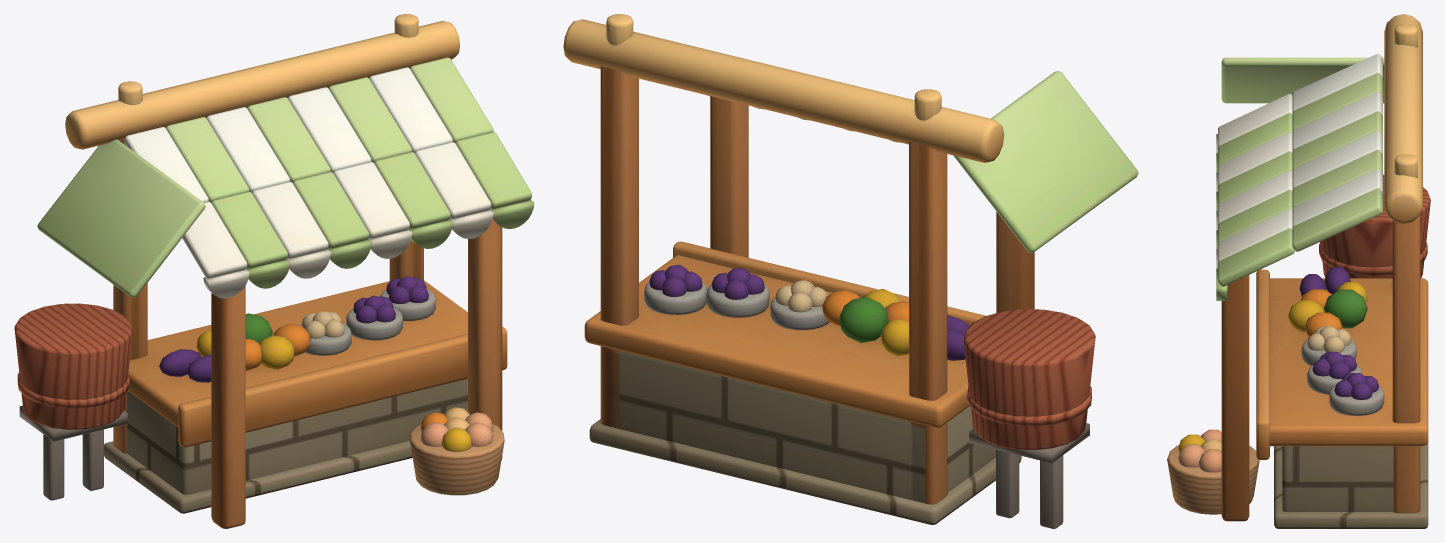
File: awning_stall_1_high.glb
3 views of the same model, side by side, from view 1: azimuth 30°, elevation 25°; view 2: azimuth 150°, elevation 25°; view 3: azimuth 270°, elevation 25° (orthographic). The views are drawn at different scales.
Parts seen in each view (by area): view 1: awning_stall_1; view 2: awning_stall_1; view 3: awning_stall_1.
Part boxes in pixels (x1,y1,x2,y2): awning_stall_1: (14, 14, 534, 528); awning_stall_1: (563, 14, 1138, 528); awning_stall_1: (1167, 14, 1430, 528).
Size of the model in its own units: 1.81 by 1.46 by 0.957.
1 material, 1 textured.
